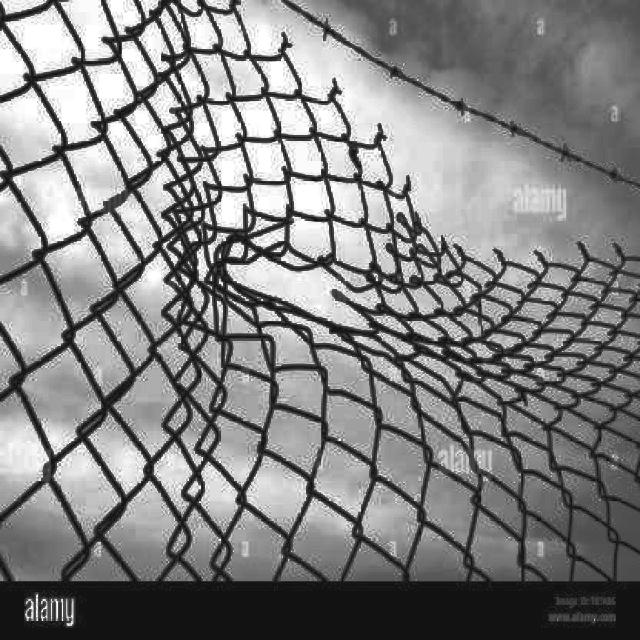anomaly-fence: (154, 3, 640, 428)
